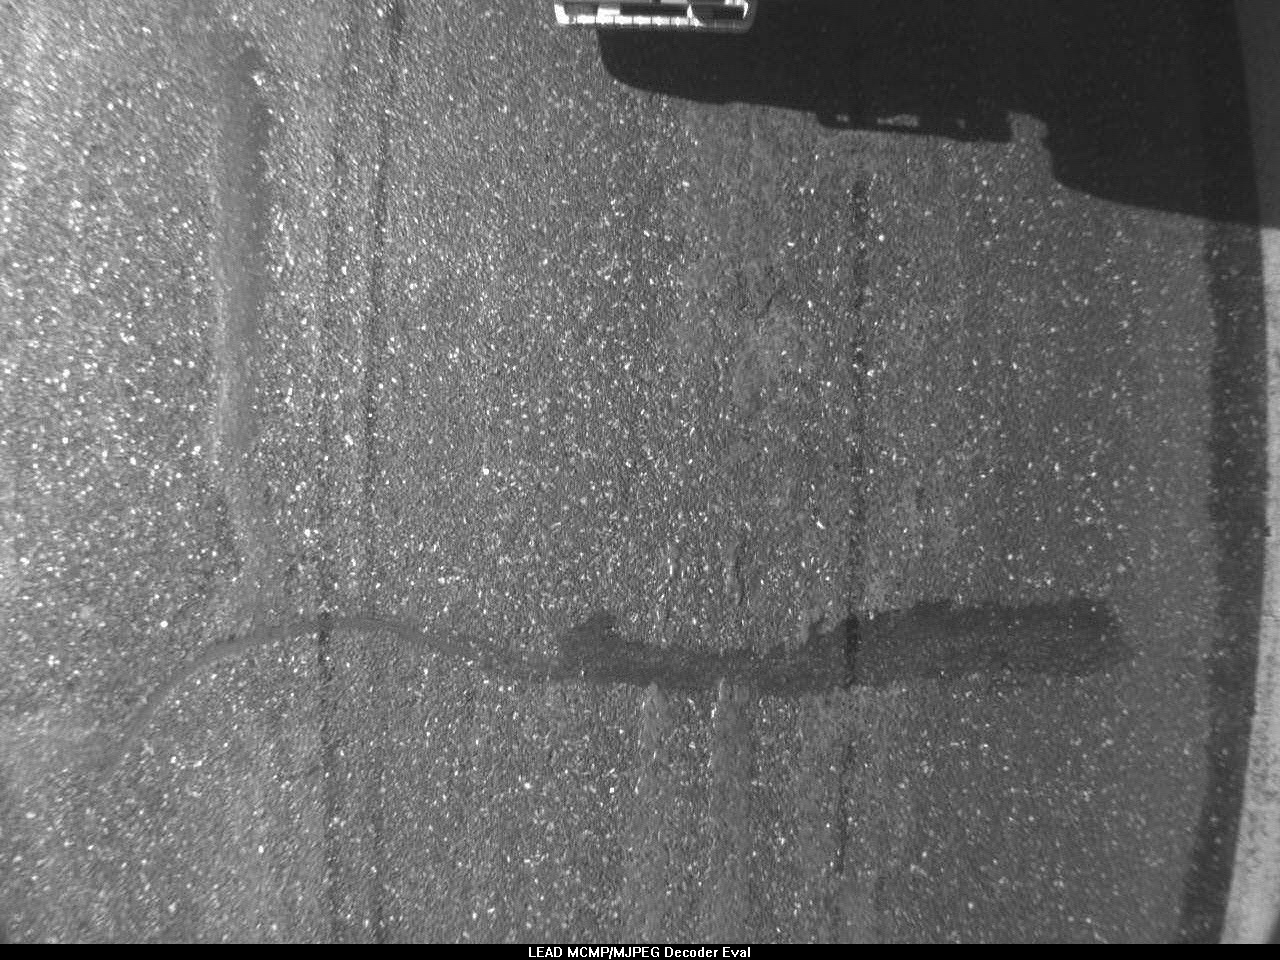sealed: (282, 590, 1154, 706)
